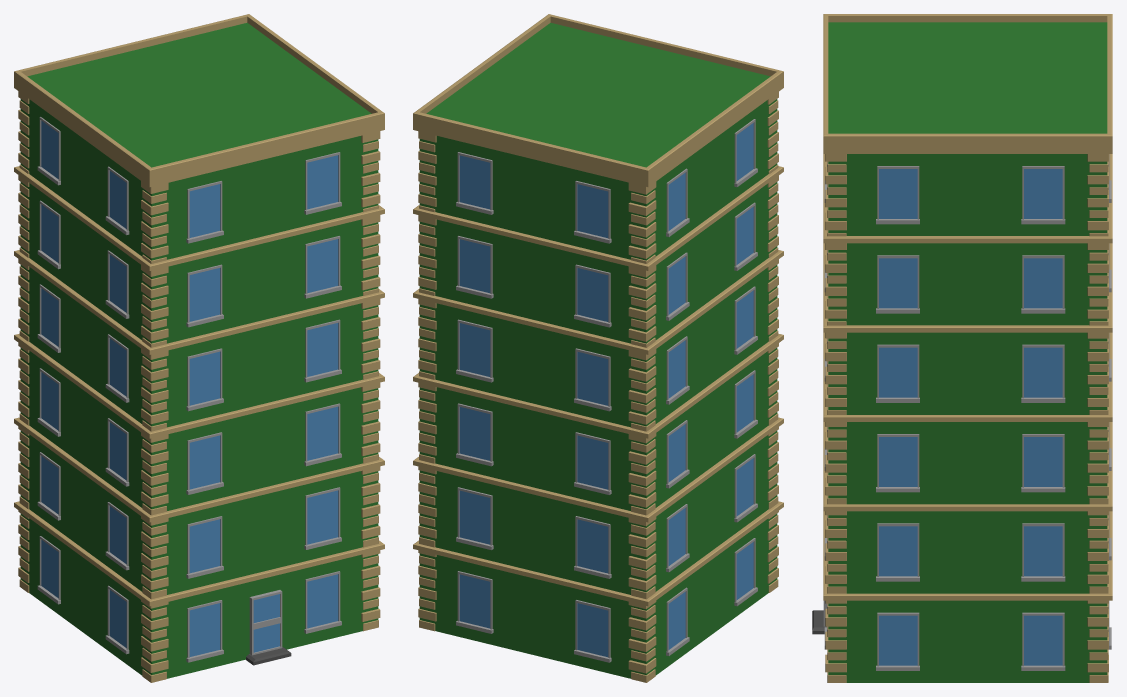
File: GebouwGroenZonderTrap.fbx
3 renders of one model, left to right at view 1: azimuth 30°, elevation 25°; view 2: azimuth 150°, elevation 25°; view 3: azimuth 270°, elevation 25°, orthographic. The views are drawn at different scales.
Parts seen in each view (by area): view 1: gebouwGroenZonderTrap; view 2: gebouwGroenZonderTrap; view 3: gebouwGroenZonderTrap.
Part boxes in pixels (x1,y1,x2,y2): gebouwGroenZonderTrap: (14, 14, 384, 682); gebouwGroenZonderTrap: (413, 14, 783, 682); gebouwGroenZonderTrap: (812, 14, 1112, 682).
Bounding box in the file's own units: 622 × 1304 × 645.
